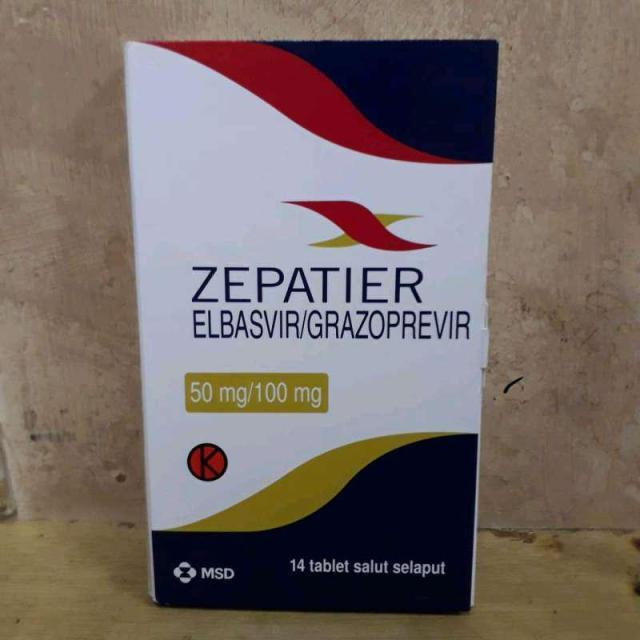drug-name: (188, 260, 430, 306)
